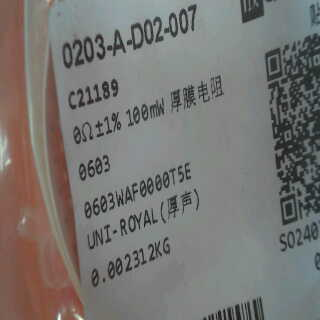0R: (67, 112, 125, 186)
